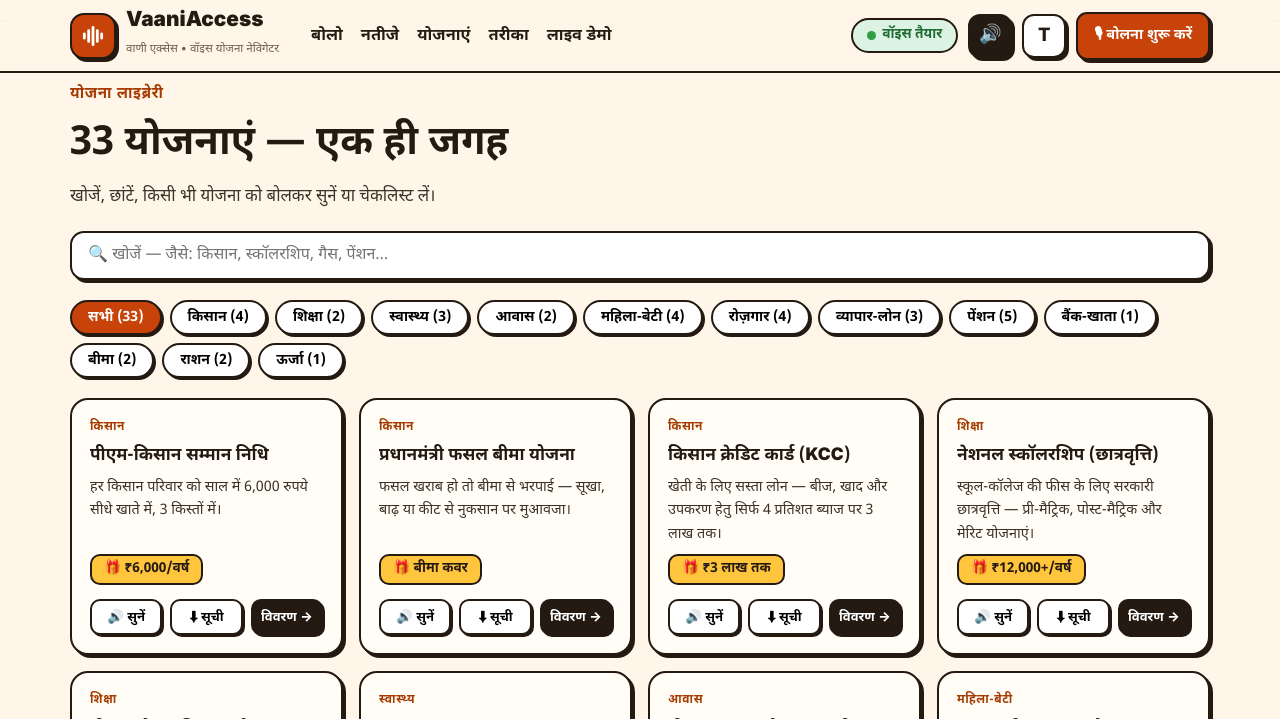
Test: App › filters by the new ration category
(page scrolled)
Click the button "राशन (2)". click: (206, 360)
box: [162,343,250,378]
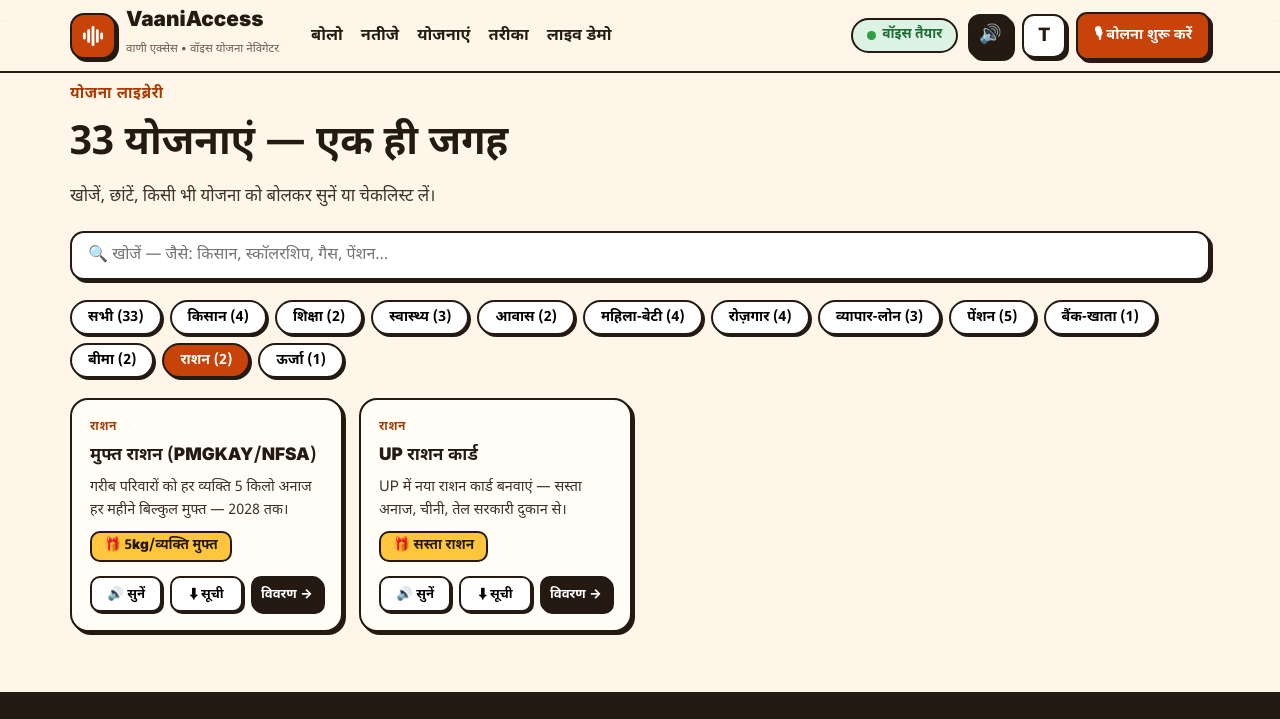
Check: the number of buttons "विवरण →" is 2, box [251,576,323,612]; [540,576,612,612]
